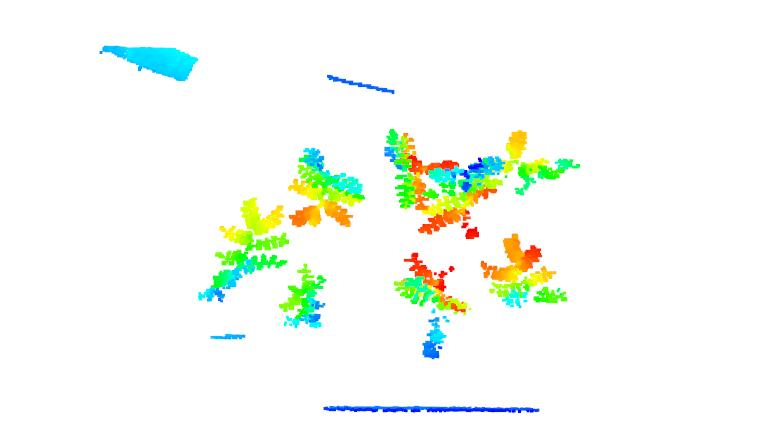chickpea: (197, 194, 286, 301), (391, 252, 472, 360), (476, 233, 572, 312), (417, 162, 499, 245), (286, 146, 362, 227), (381, 129, 459, 207), (489, 129, 577, 194), (273, 264, 333, 327)
